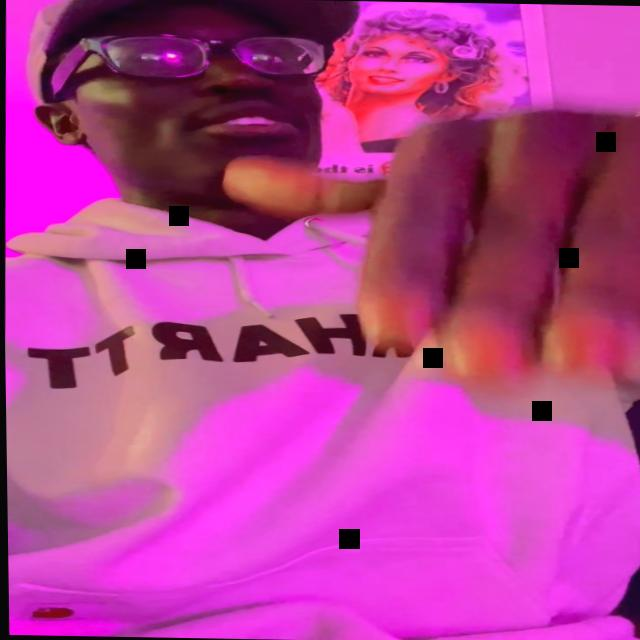Paper: (218, 100, 640, 390)
